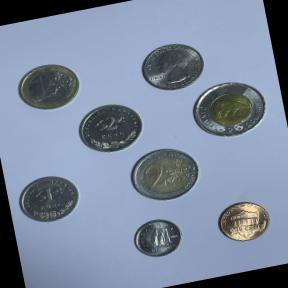1 Euro: (10, 56, 86, 118)
2 Euro: (122, 140, 206, 208)
Canda-10cent-: (125, 211, 190, 264)
Canda-2Dollar-: (184, 72, 276, 146)
Croatia-2Kune-: (71, 94, 150, 160)
US-1cent-: (210, 192, 276, 251)
US-25cent-: (135, 34, 210, 97)
